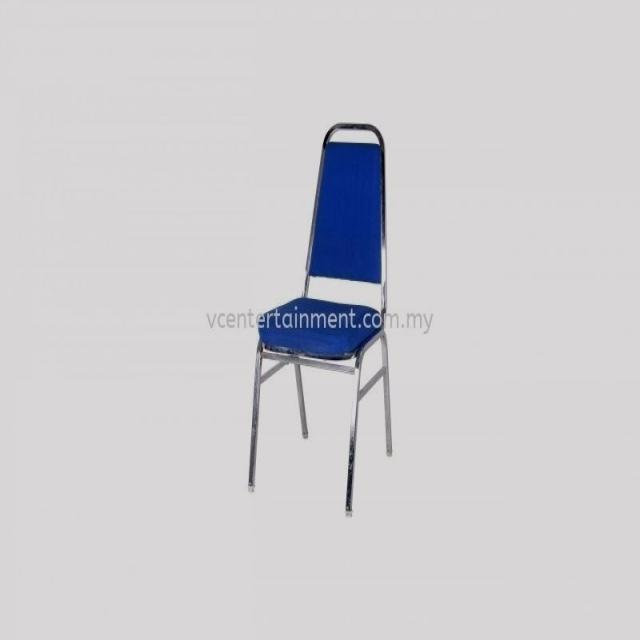Chair: (247, 117, 400, 526)
